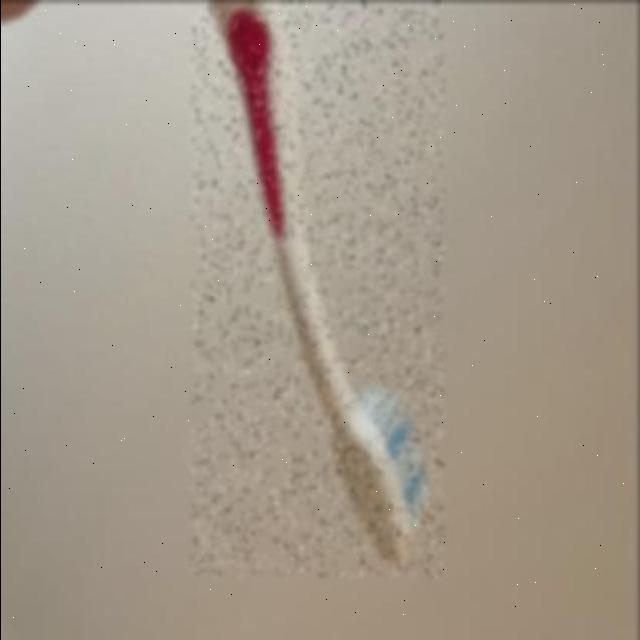toothbrush: (192, 1, 444, 576)
